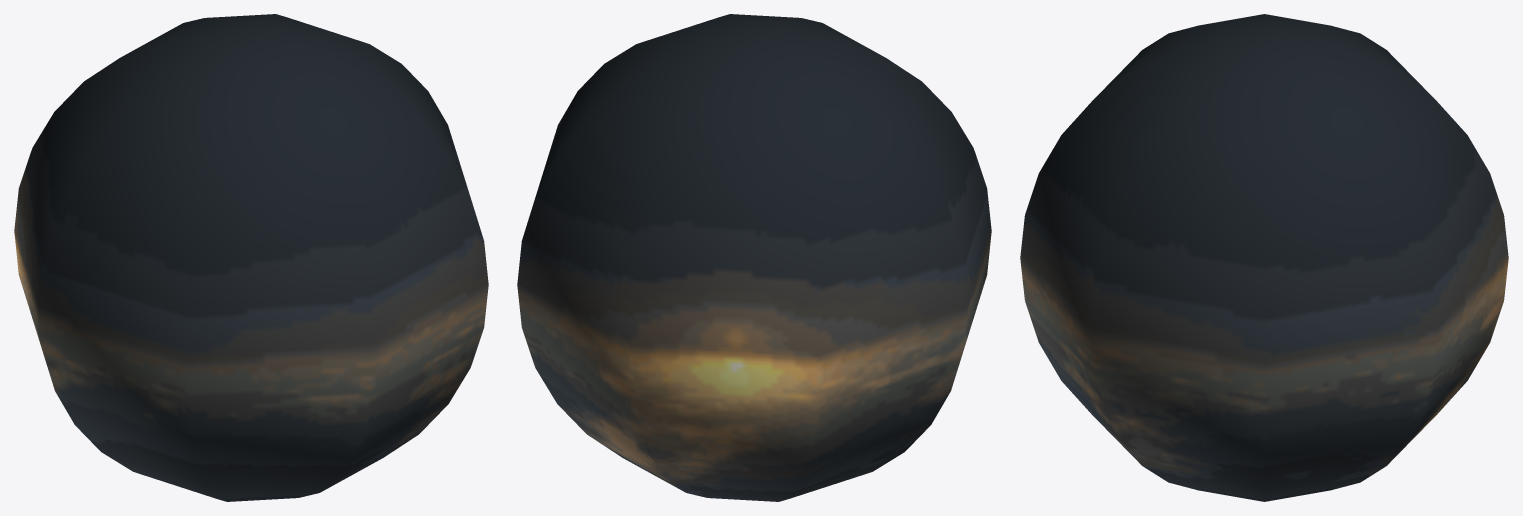
Rendered from skybox.obj.
The picture shows the model from 3 angles, left to right: view 1: azimuth 30°, elevation 25°; view 2: azimuth 150°, elevation 25°; view 3: azimuth 270°, elevation 25°; orthographic projection.
Parts seen in each view (by area): view 1: Sphere; view 2: Sphere; view 3: Sphere.
Part boxes in pixels (x1,y1,x2,y2): Sphere: (14, 14, 488, 501); Sphere: (517, 14, 991, 501); Sphere: (1020, 14, 1508, 501).
Size of the model in its own units: 48 by 48 by 48.
1 material, 1 textured.
